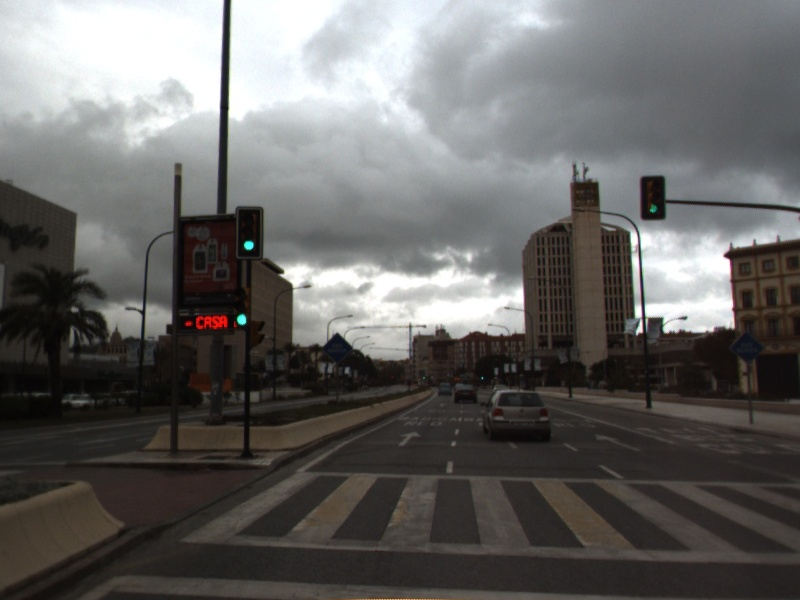STRAIGHT: (592, 431, 644, 454), (396, 429, 424, 448)
